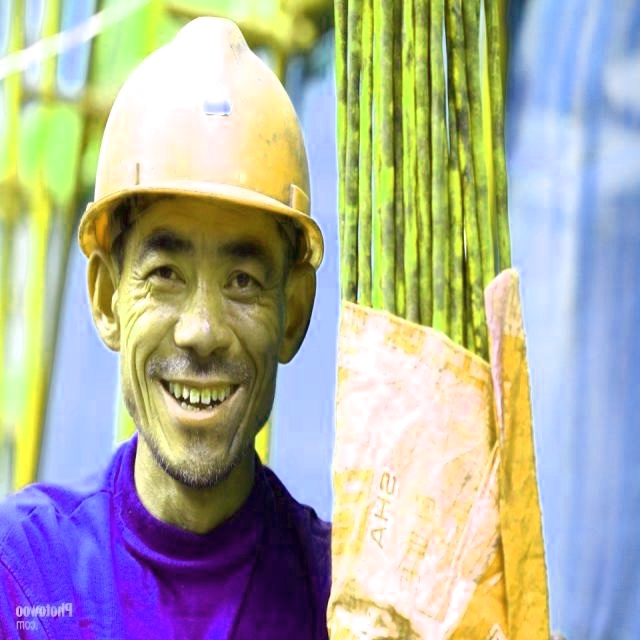Con_Casco: (82, 16, 321, 458)
